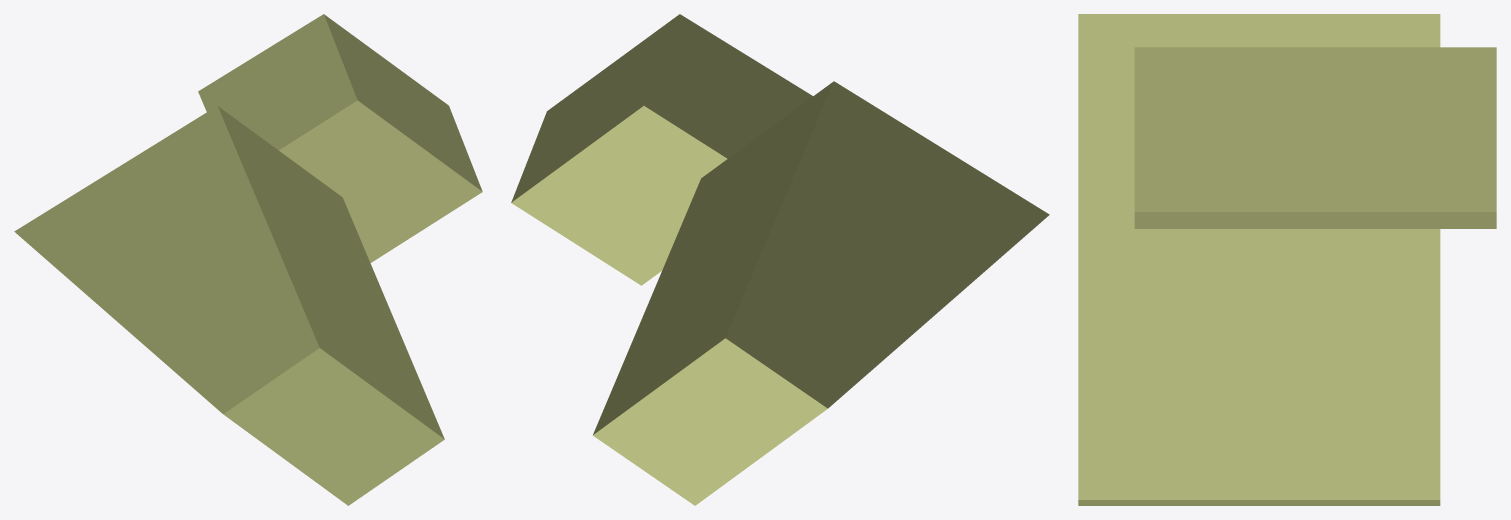
3 views of the same model, side by side, from view 1: azimuth 30°, elevation 25°; view 2: azimuth 150°, elevation 25°; view 3: azimuth 270°, elevation 25° (orthographic). The views are drawn at different scales.
Visible parts, largest first — view 1: 0_1_2_3_0_0_0_3_3_3; view 2: 0_1_2_3_0_0_0_3_3_3; view 3: 0_1_2_3_0_0_0_3_3_3.
Boxes of the visible parts, bbox=[...] form: 0_1_2_3_0_0_0_3_3_3: bbox=[14, 14, 482, 505]; 0_1_2_3_0_0_0_3_3_3: bbox=[511, 14, 1049, 505]; 0_1_2_3_0_0_0_3_3_3: bbox=[1078, 14, 1496, 505].
Bounding box in the file's own units: 15.06 × 14.15 × 10.4.
